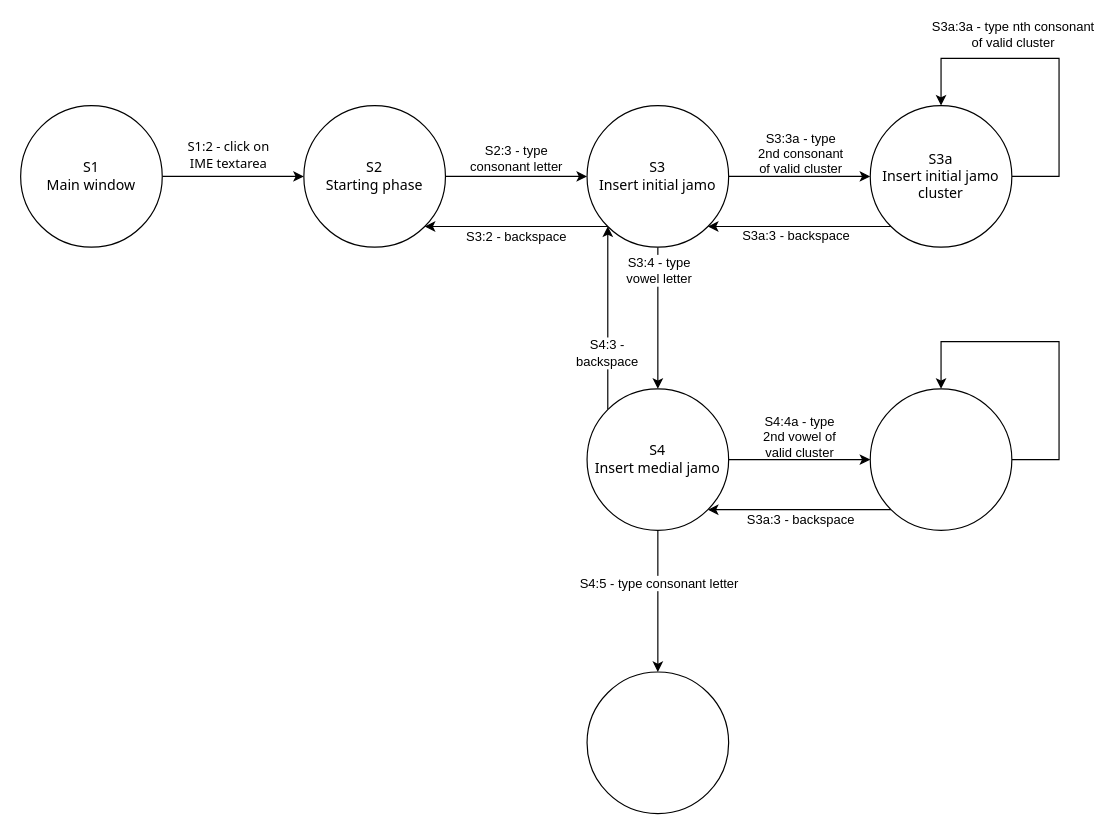
Image size: 1114x835. Some labels were removed from this diagram. The centre of each missing label's shape, as x and y in pixels:
"S4a Insert medial jamo cluster" goes at (x=940, y=459).
"S5 Insert final jamo" goes at (x=657, y=742).
